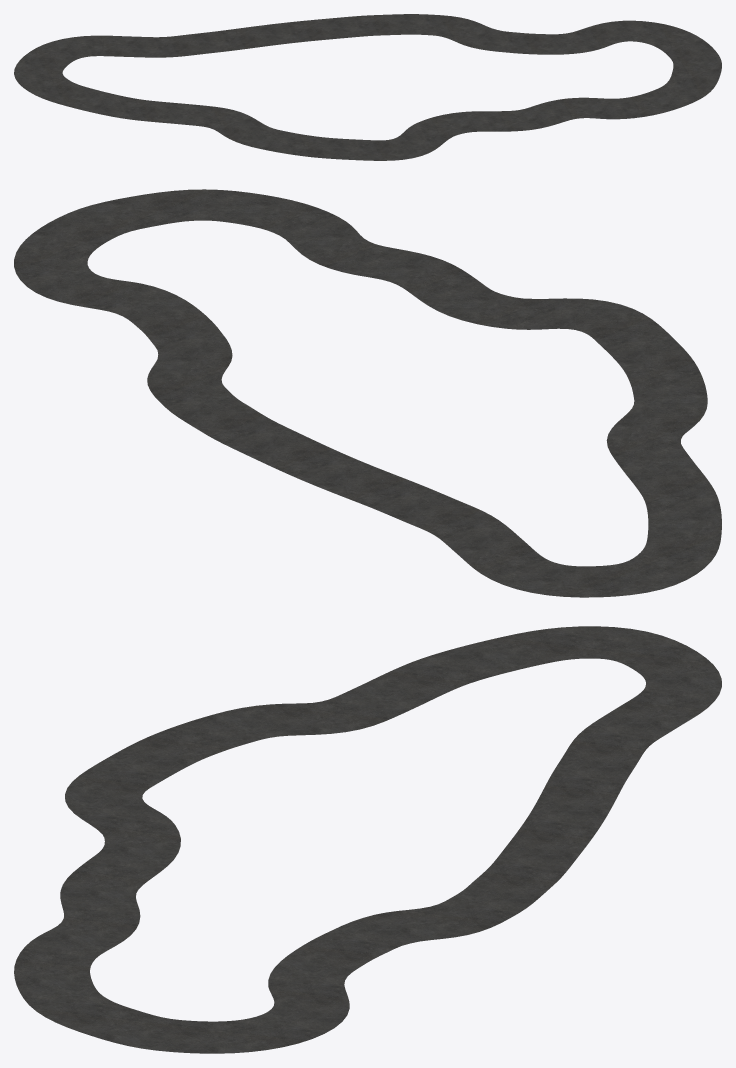
File: Canad_track_road.dae
The picture shows the model from 3 angles, top to bottom: view 1: azimuth 30°, elevation 25°; view 2: azimuth 150°, elevation 25°; view 3: azimuth 270°, elevation 25°; orthographic projection. The views are drawn at different scales.
Parts seen in each view (by area): view 1: road; view 2: road; view 3: road.
Boxes of the visible parts, <box> form: road: <box>14,14,721,160</box>; road: <box>14,189,721,597</box>; road: <box>14,626,721,1053</box>.
Bounding box in the file's own units: 8.76 × 6.14 × 9.16e-07.
Materials: 1 (1 with a texture image).
